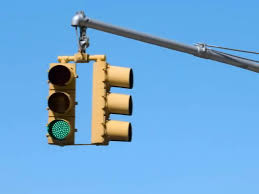traffic light: (88, 55, 137, 155), (41, 54, 83, 154)
